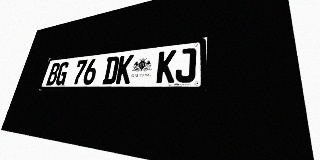6: (82, 58, 99, 85)
7: (71, 59, 88, 85)
B: (46, 62, 61, 85)
D: (102, 56, 120, 84)
G: (54, 61, 70, 85)
J: (175, 47, 196, 83)
K: (156, 50, 177, 83), (115, 54, 134, 84)
